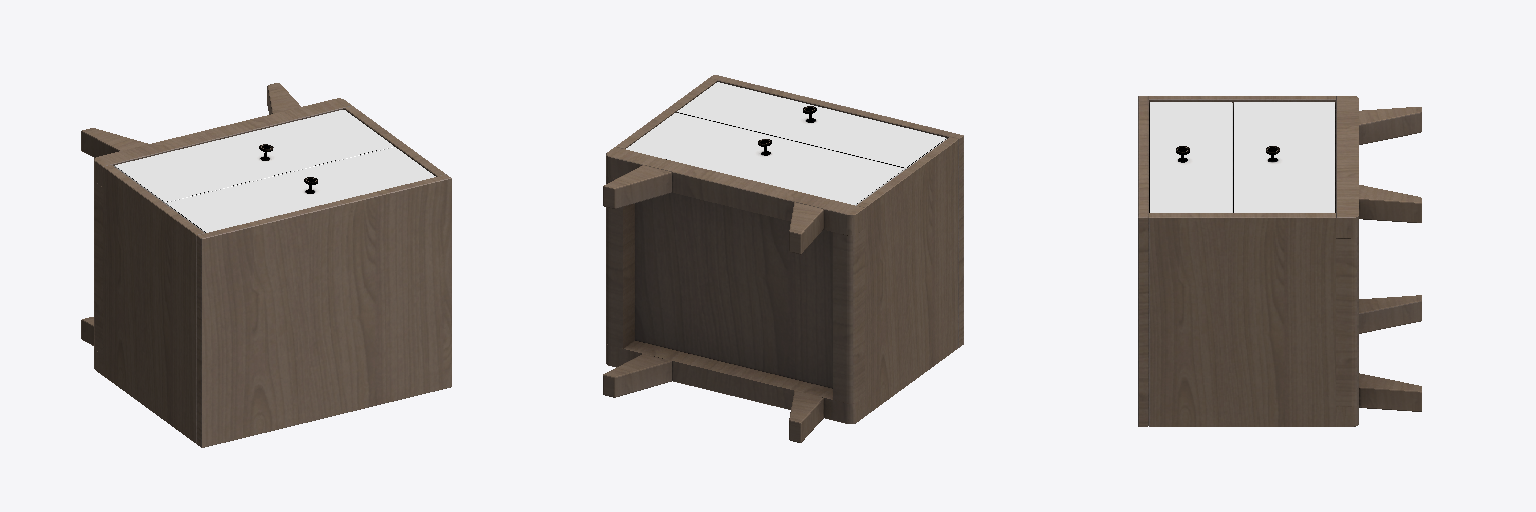
3 views of the same model, side by side, from view 1: azimuth 30°, elevation 25°; view 2: azimuth 150°, elevation 25°; view 3: azimuth 270°, elevation 25° (orthographic).
Bounding box in the file's own units: 0.5532 × 0.4667 × 0.5431.
Materials: 1 (1 with a texture image).